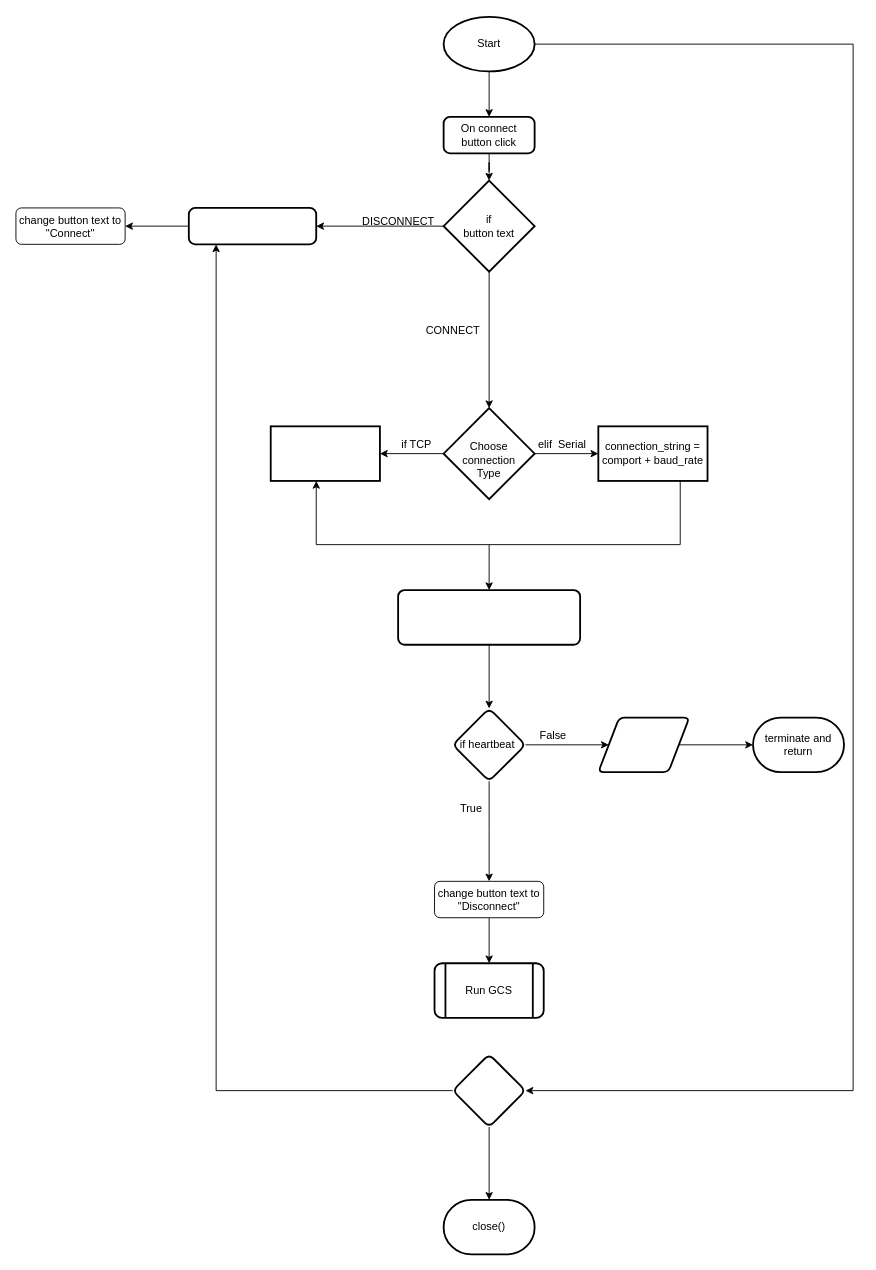
This 876x1270 diagram has some shape labels left out. Each missing label, with the centre of its shape:
connect_vehicle(connection_string): point 489,617
connecton_string = ip + port: point 324,453
disconnect_vehicle(): point 252,226
Failed to Connect: point 643,744
if user exit app: point 488,1090
